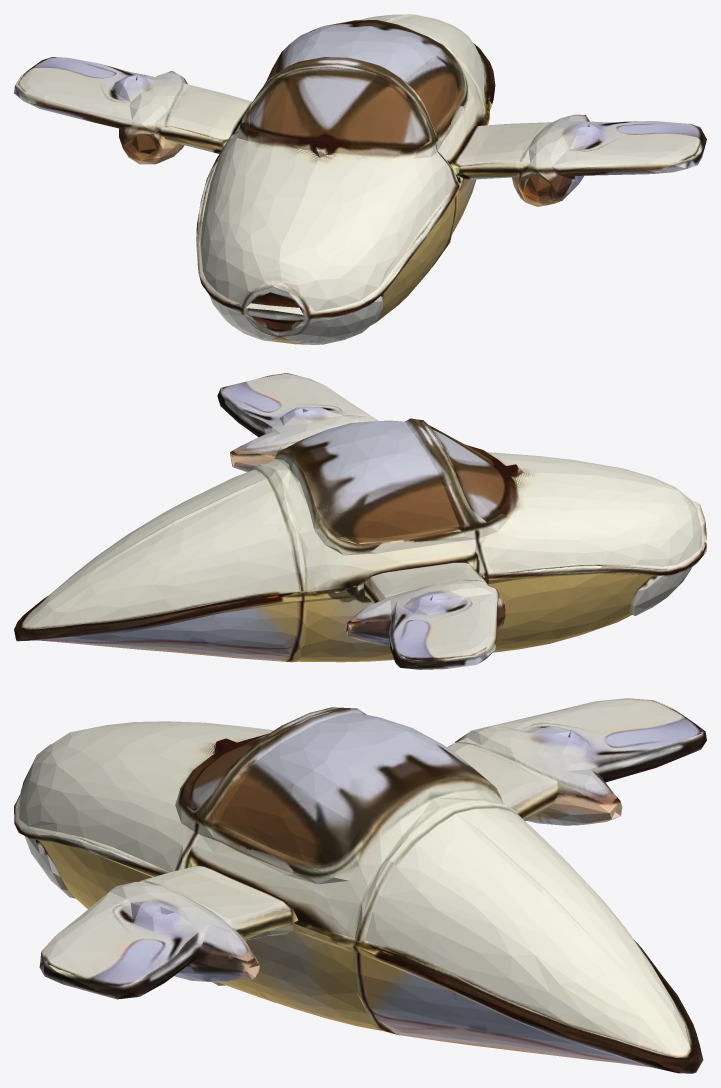
Rendered from civilian.glb.
3 renders of one model, top to bottom at view 1: azimuth 30°, elevation 25°; view 2: azimuth 150°, elevation 25°; view 3: azimuth 270°, elevation 25°, orthographic. The views are drawn at different scales.
Parts seen in each view (by area): view 1: figure; view 2: figure; view 3: figure.
Part boxes in pixels (box(x1,y1,x2,y2)): figure: box(14, 14, 706, 344); figure: box(14, 373, 706, 669); figure: box(14, 698, 706, 1073).
Size of the model in its own units: 2.25 by 1 by 2.25.
1 material, 1 textured.
